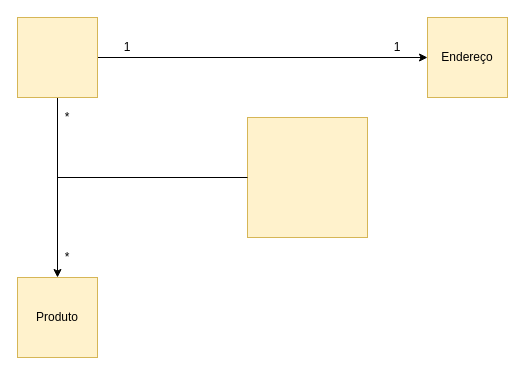
This 525x375 diagram has some shape labels left out. The centre of each missing label's shape, as x and y in pixels:
Carrinho(Venda/Produto): the point at 307,177
Cliente: the point at 57,57
